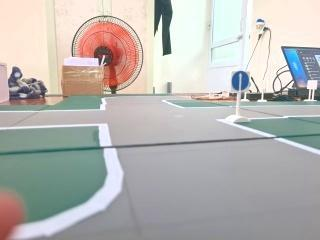straight: (229, 70, 253, 92)
